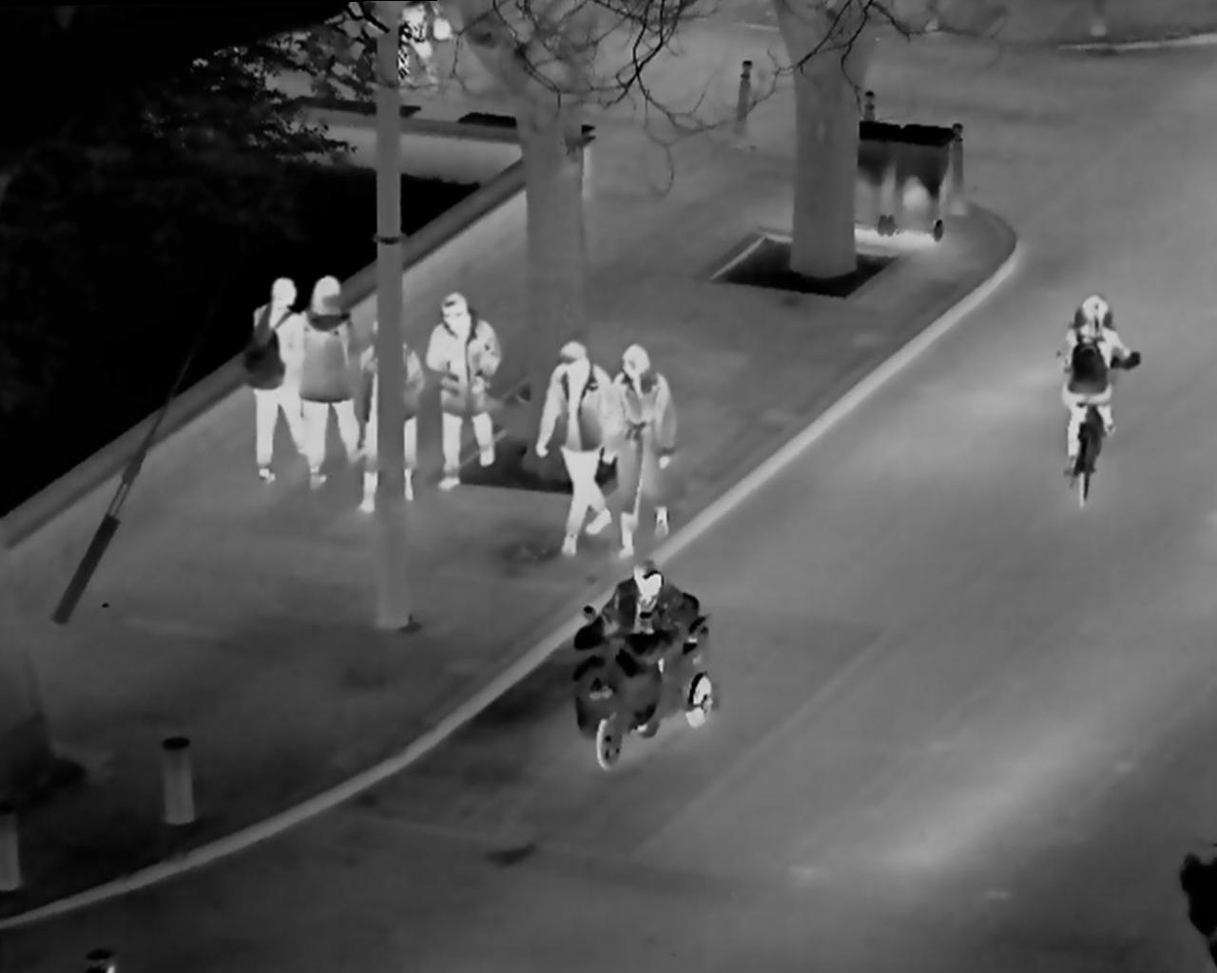person: (579, 546, 716, 754), (599, 316, 678, 561), (417, 278, 505, 486), (535, 334, 615, 557), (1050, 282, 1137, 487), (238, 265, 318, 484), (297, 269, 365, 493), (357, 314, 421, 522)
